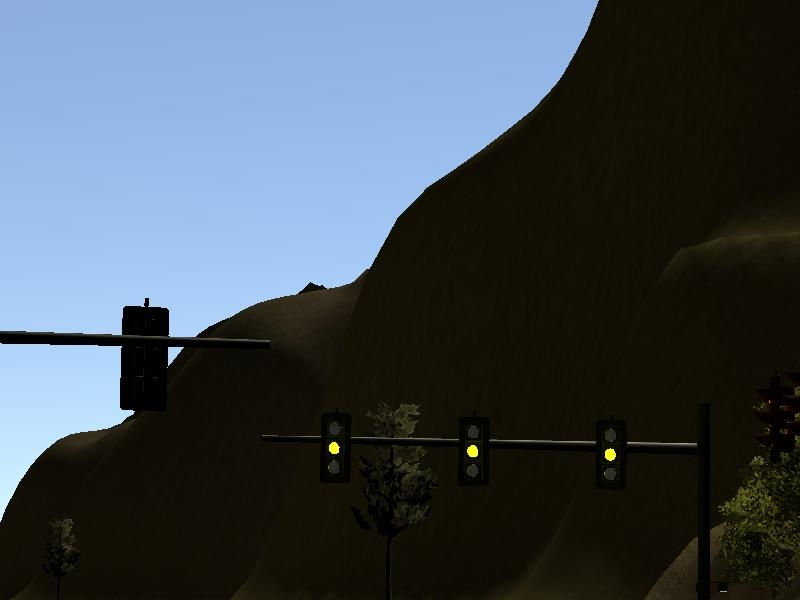yellow: (321, 414, 353, 486), (594, 422, 627, 491), (459, 418, 490, 487)
